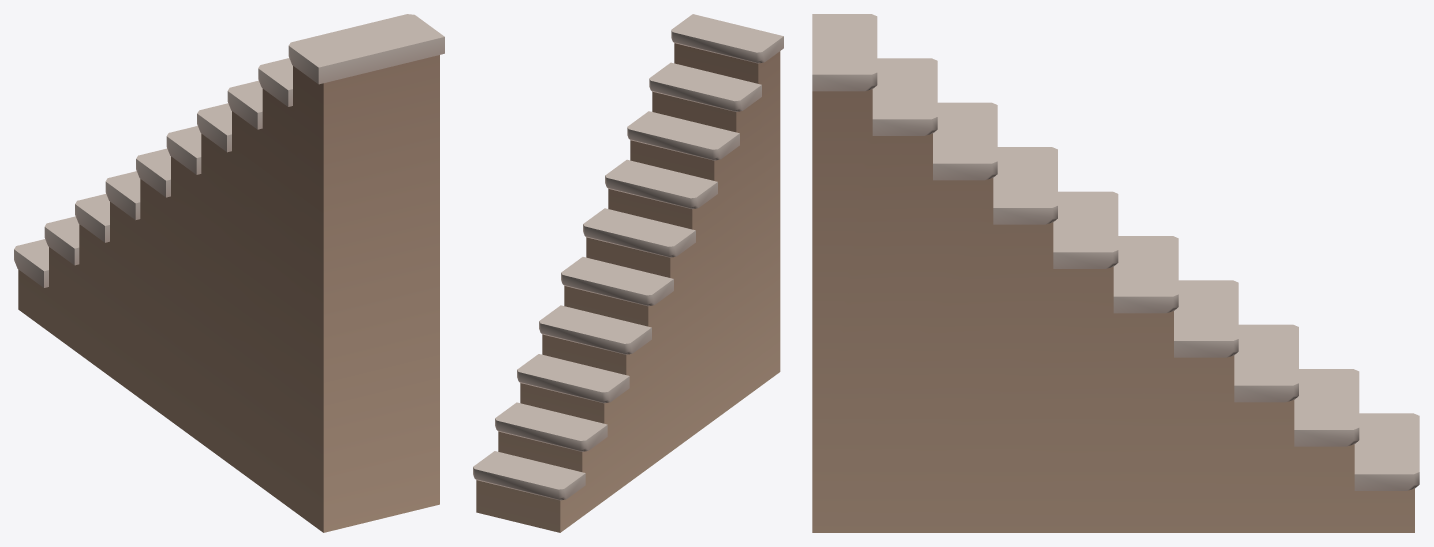
File: stairs-closed.glb
3 views of the same model, side by side, from view 1: azimuth 30°, elevation 25°; view 2: azimuth 150°, elevation 25°; view 3: azimuth 270°, elevation 25° (orthographic). The views are drawn at different scales.
Parts seen in each view (by area): view 1: stairs-closed; view 2: stairs-closed; view 3: stairs-closed.
Boxes of the visible parts, <box> form: stairs-closed: <box>14,14,444,532</box>; stairs-closed: <box>473,14,783,532</box>; stairs-closed: <box>812,14,1419,532</box>.
Bounding box in the file's own units: 0.6514 × 2.3 × 2.75.
